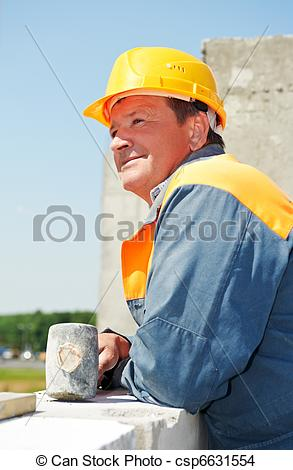casco: (82, 45, 227, 133)
